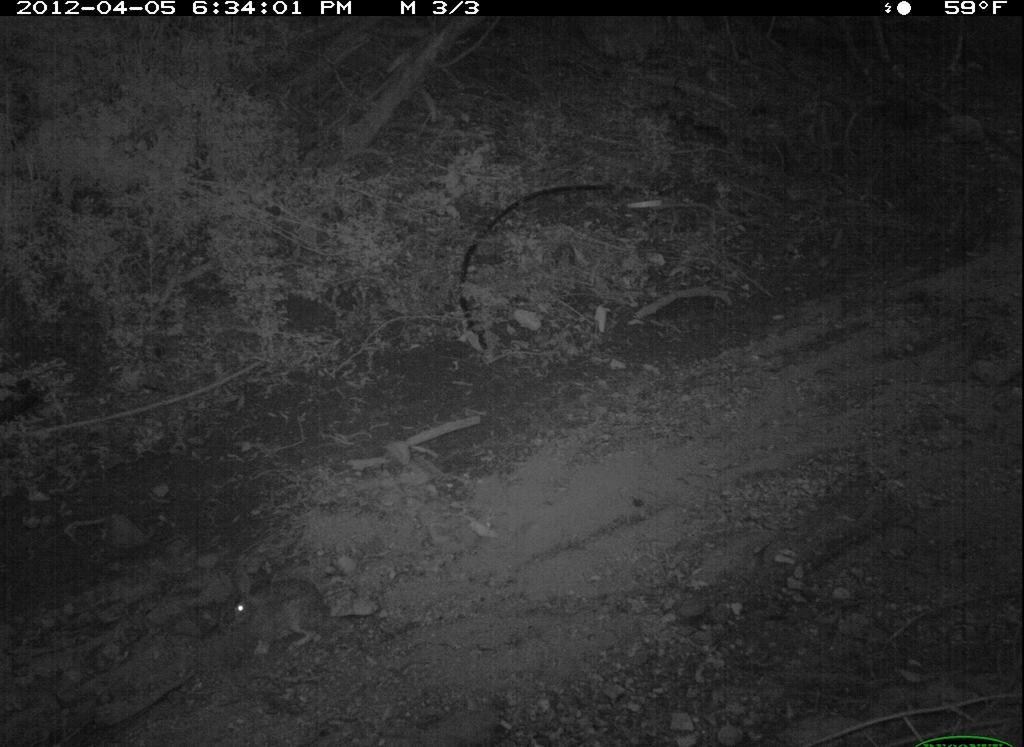rabbit: (209, 556, 341, 669)
